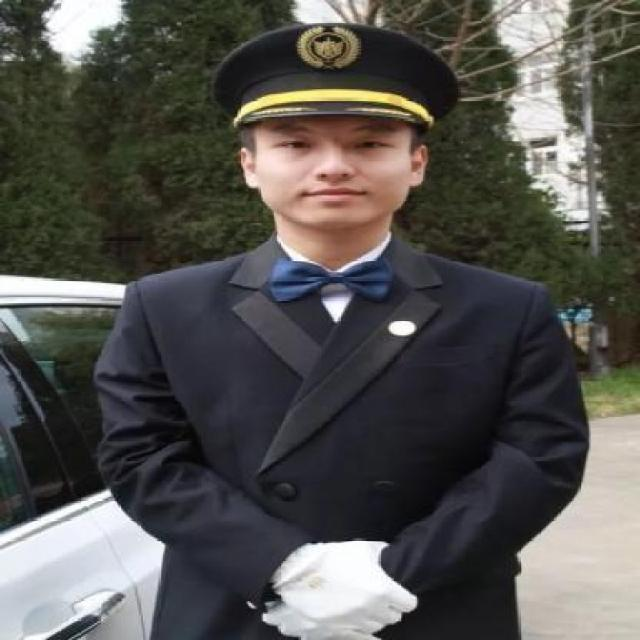face_nomask: (268, 112, 408, 222)
hand_glove: (264, 541, 422, 637)
head_nohelmet: (236, 34, 447, 137)
person: (97, 29, 591, 640)
